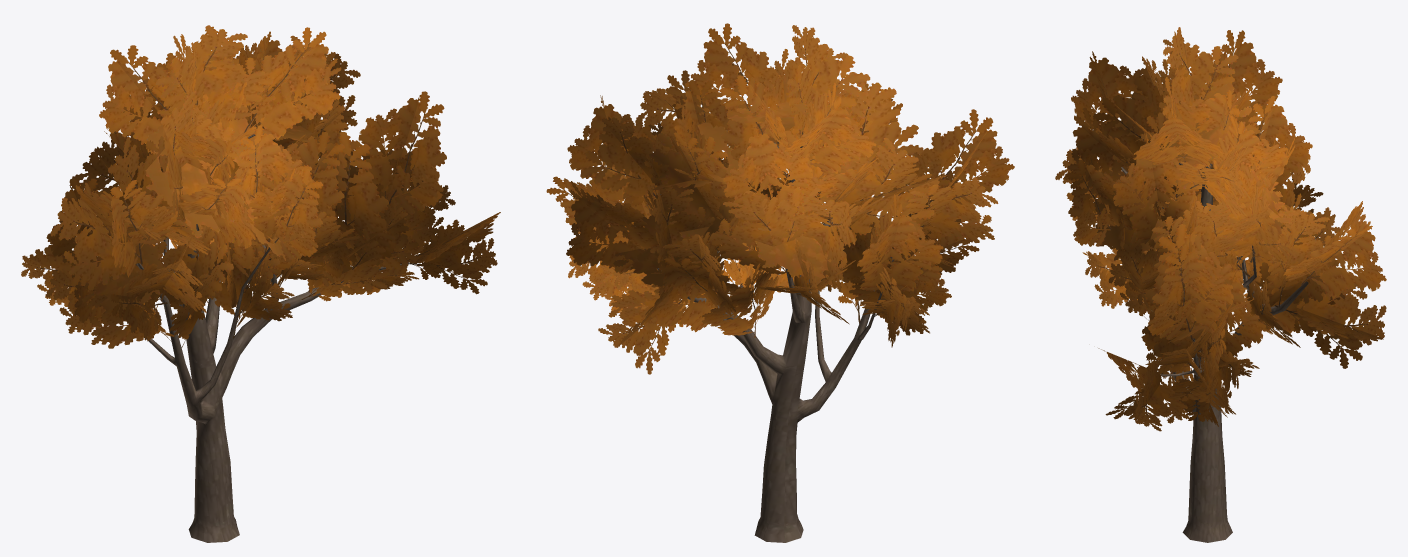
3 renders of one model, left to right at view 1: azimuth 30°, elevation 25°; view 2: azimuth 150°, elevation 25°; view 3: azimuth 270°, elevation 25°, orthographic. The views are drawn at different scales.
Visible parts, largest first — view 1: body0_model0_lod0_mesh0; view 2: body0_model0_lod0_mesh0; view 3: body0_model0_lod0_mesh0.
Boxes of the visible parts, <box> form: body0_model0_lod0_mesh0: <box>21,25,500,542</box>; body0_model0_lod0_mesh0: <box>546,23,1014,542</box>; body0_model0_lod0_mesh0: <box>1055,27,1386,542</box>.
Size of the model in its own units: 473 by 532 by 328.
Materials: 1 (1 with a texture image).
